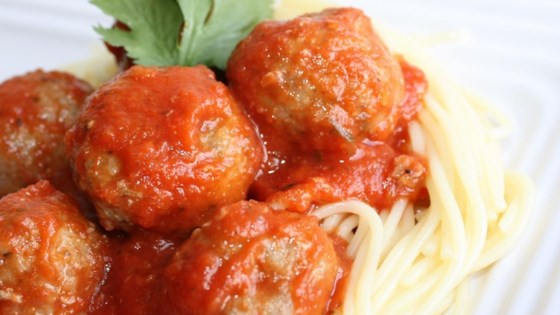meatballs: (93, 70, 244, 214), (241, 20, 386, 145), (194, 200, 332, 315), (1, 76, 89, 188), (1, 190, 98, 290)
plain spaghetti: (399, 62, 507, 315), (326, 212, 484, 315)
